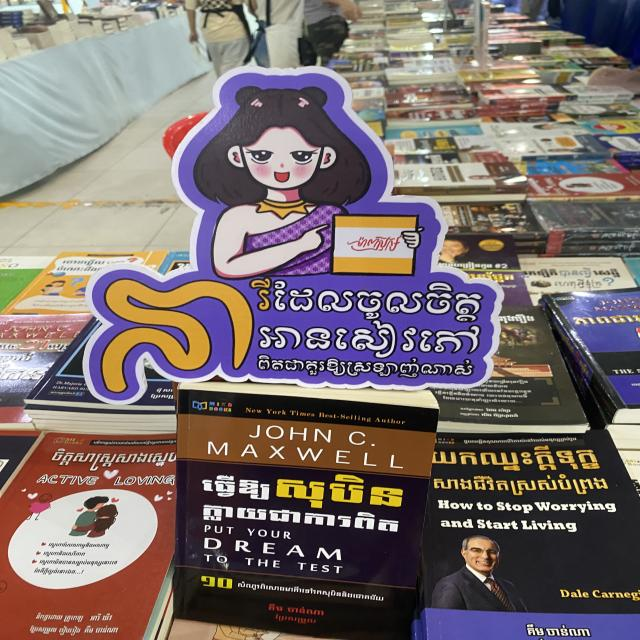1: (518, 620, 597, 638), (261, 601, 327, 619)
3: (32, 610, 117, 626), (26, 622, 122, 636)
Yolov11_80vkh: (91, 275, 256, 403), (246, 274, 493, 326), (249, 321, 494, 360), (194, 498, 408, 540), (255, 349, 482, 383), (271, 463, 410, 517), (426, 439, 614, 475), (425, 471, 620, 496), (234, 577, 387, 604), (46, 444, 175, 473), (199, 472, 273, 503), (344, 232, 403, 254), (194, 570, 234, 593), (37, 557, 119, 568), (271, 611, 319, 629), (30, 564, 88, 578), (47, 540, 111, 552), (42, 548, 88, 558)
